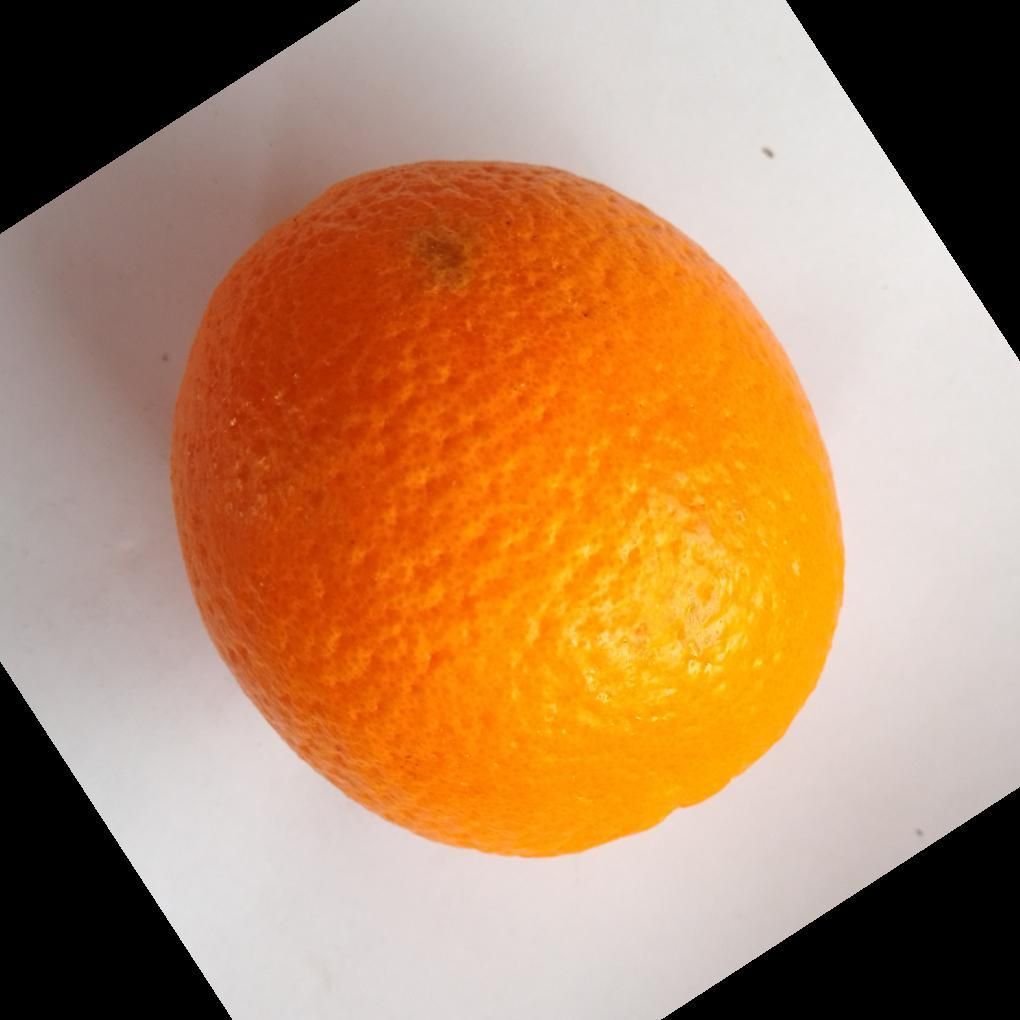FreshGuava: (166, 160, 848, 864)
